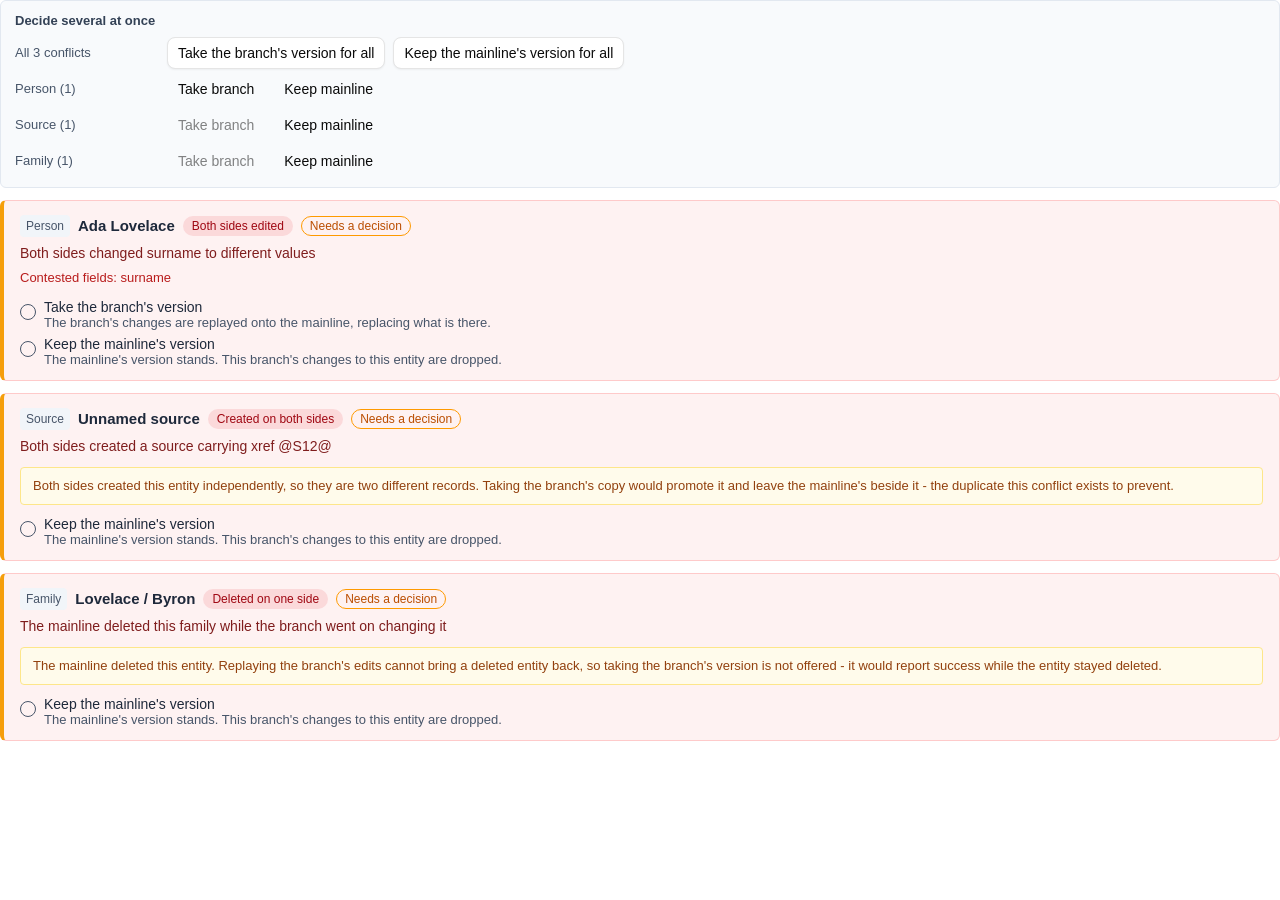
Test: MergeConflictResolver › bulk resolution › takes the branch's version for every conflict that accepts it, and says which it skipped
Click the button "Take the branch's version for all": click(276, 52) [167,36,385,68]
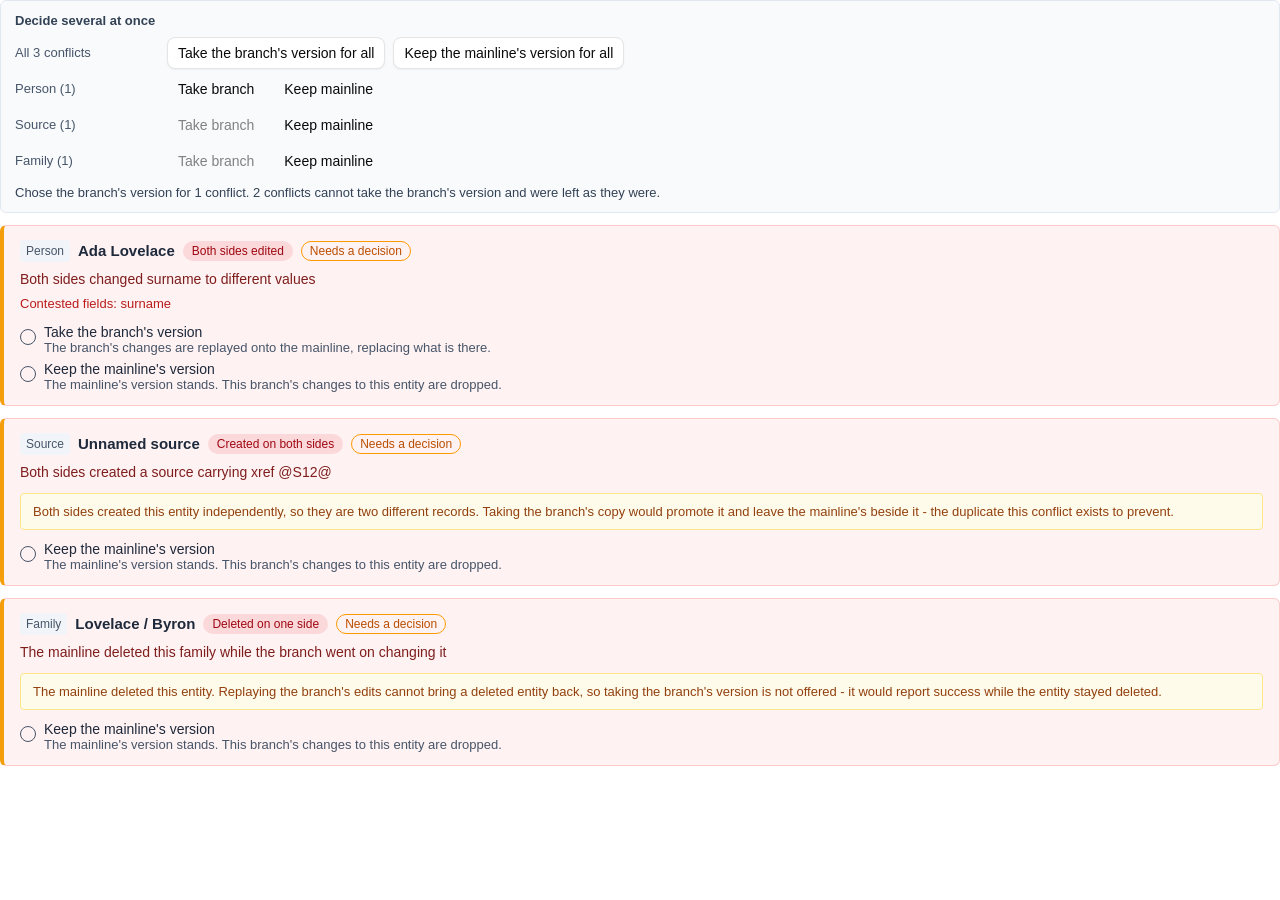
Expected: the message shows "Chose the branch's version for 1 conflict. 2 conflicts cannot take the branch's version and were left as they were.", [15,184,660,200]
